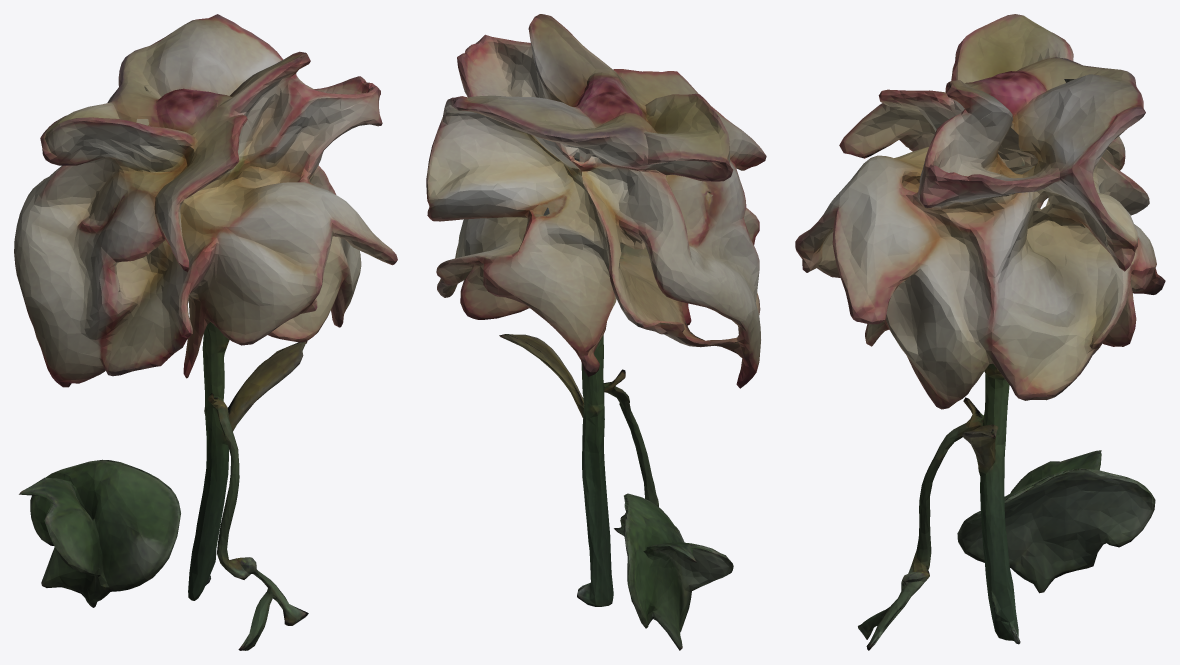
The picture shows the model from 3 angles, left to right: view 1: azimuth 30°, elevation 25°; view 2: azimuth 150°, elevation 25°; view 3: azimuth 270°, elevation 25°; orthographic projection. The views are drawn at different scales.
Visible parts, largest first — view 1: world; view 2: world; view 3: world.
Part boxes in pixels (x1=…): world: x1=14, y1=14, x2=397, y2=650; world: x1=426, y1=14, x2=766, y2=650; world: x1=795, y1=14, x2=1165, y2=650.
Bounding box in the file's own units: 0.588 × 0.9833 × 0.5443.
1 material, 1 textured.
